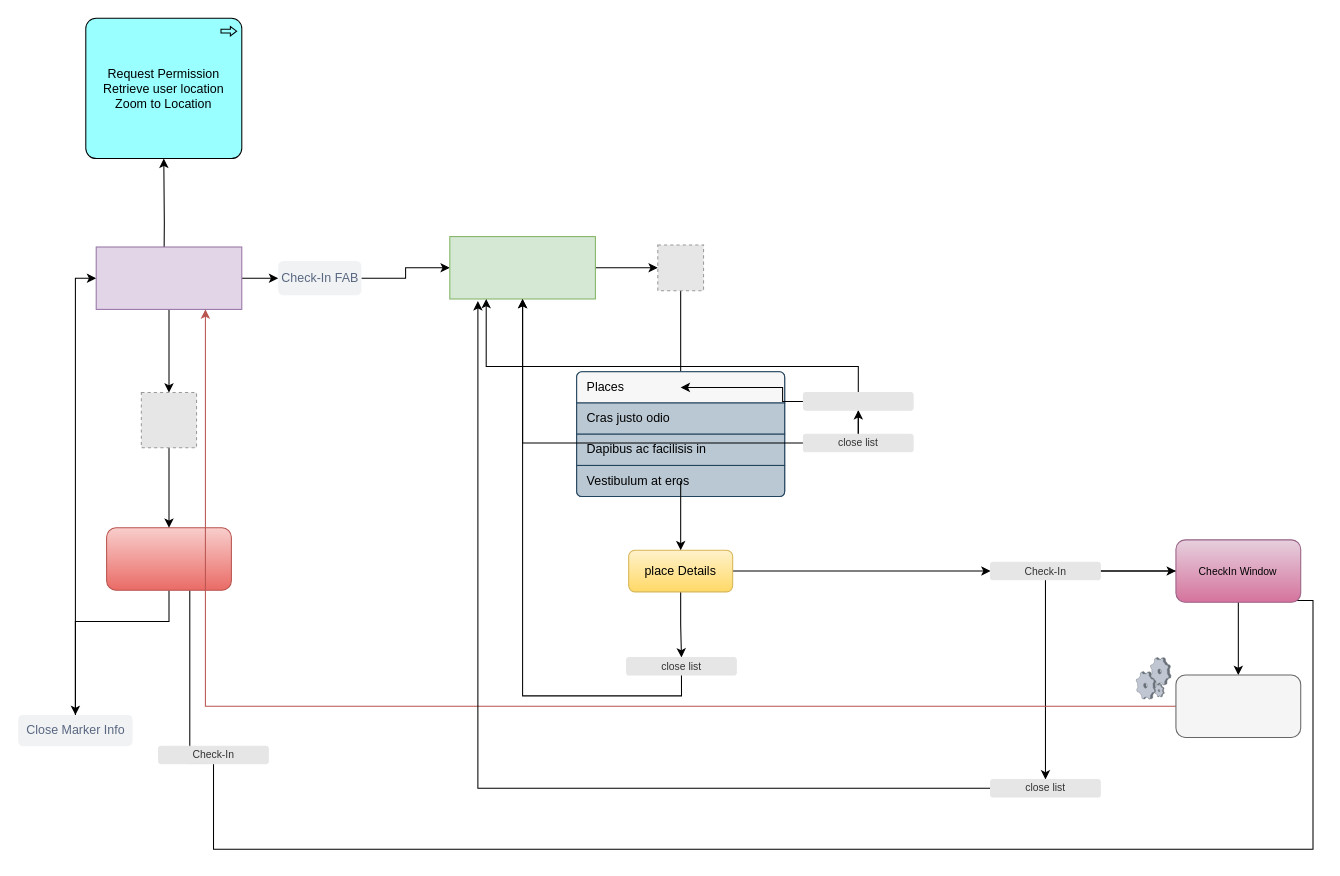
Some shapes in this 1340 by 876 pixel diagram are drawn without their labels. Grey dashed boxes stand in for pictures. The shapes that lost their labels are listed below. From the top down, each one's box as (x1, y1, x2, y2) in pixels, then its label:
(95, 246, 242, 309): OsmFragment
(449, 236, 595, 299): CheckInFragment
(802, 392, 913, 410): showList
(106, 527, 231, 590): get marker info from Firestore
(1175, 674, 1301, 737): Store or update fireStore
